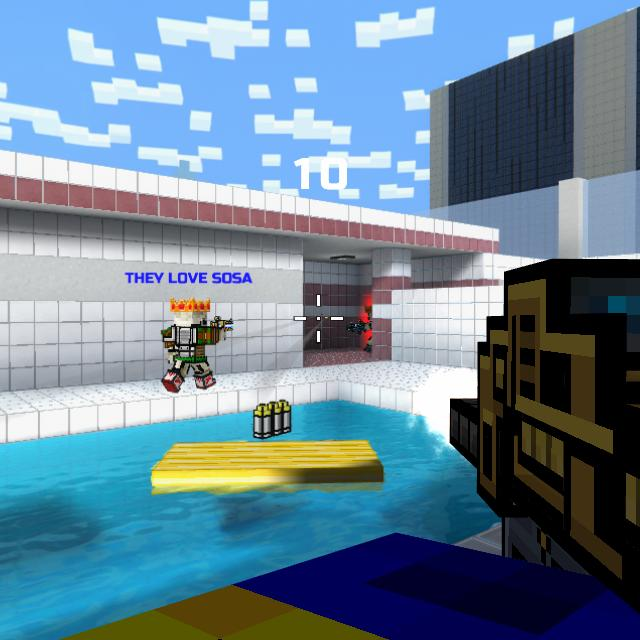Enemy: (362, 305, 372, 352)
